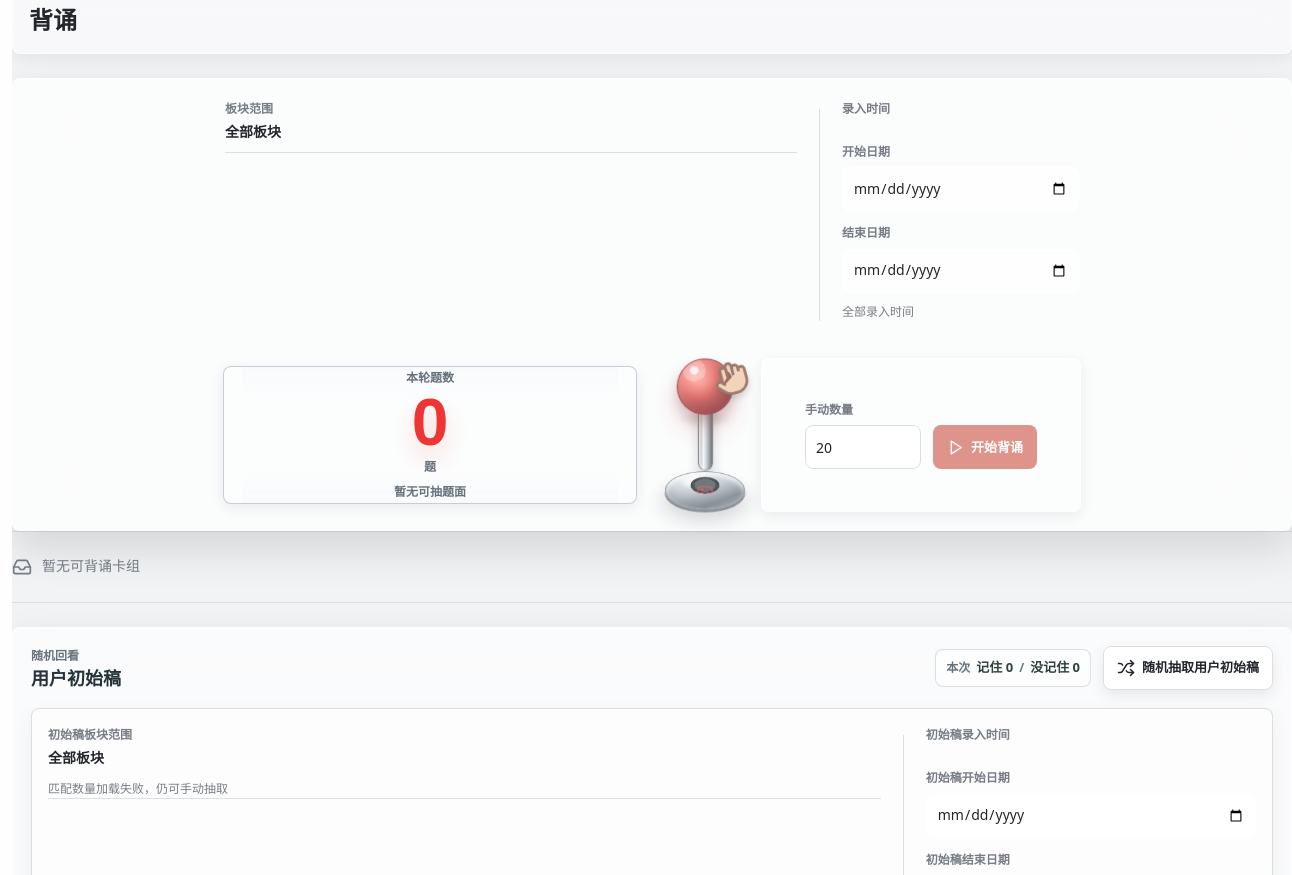
Scenario: 背诵页随机查看用户初始稿 › 匹配数量加载失败不阻止手动抽取，非法日期不发送计数请求
Expected: the text "暂无可背诵卡组" is shown, x1=42 y1=555 x2=140 y2=578
Expected: the text "匹配数量加载失败，仍可手动抽取" is shown, x1=48 y1=780 x2=228 y2=797
Step 1. Click the button "随机抽取用户初始稿" → (1188, 668), box x1=1103 y1=646 x2=1273 y2=690
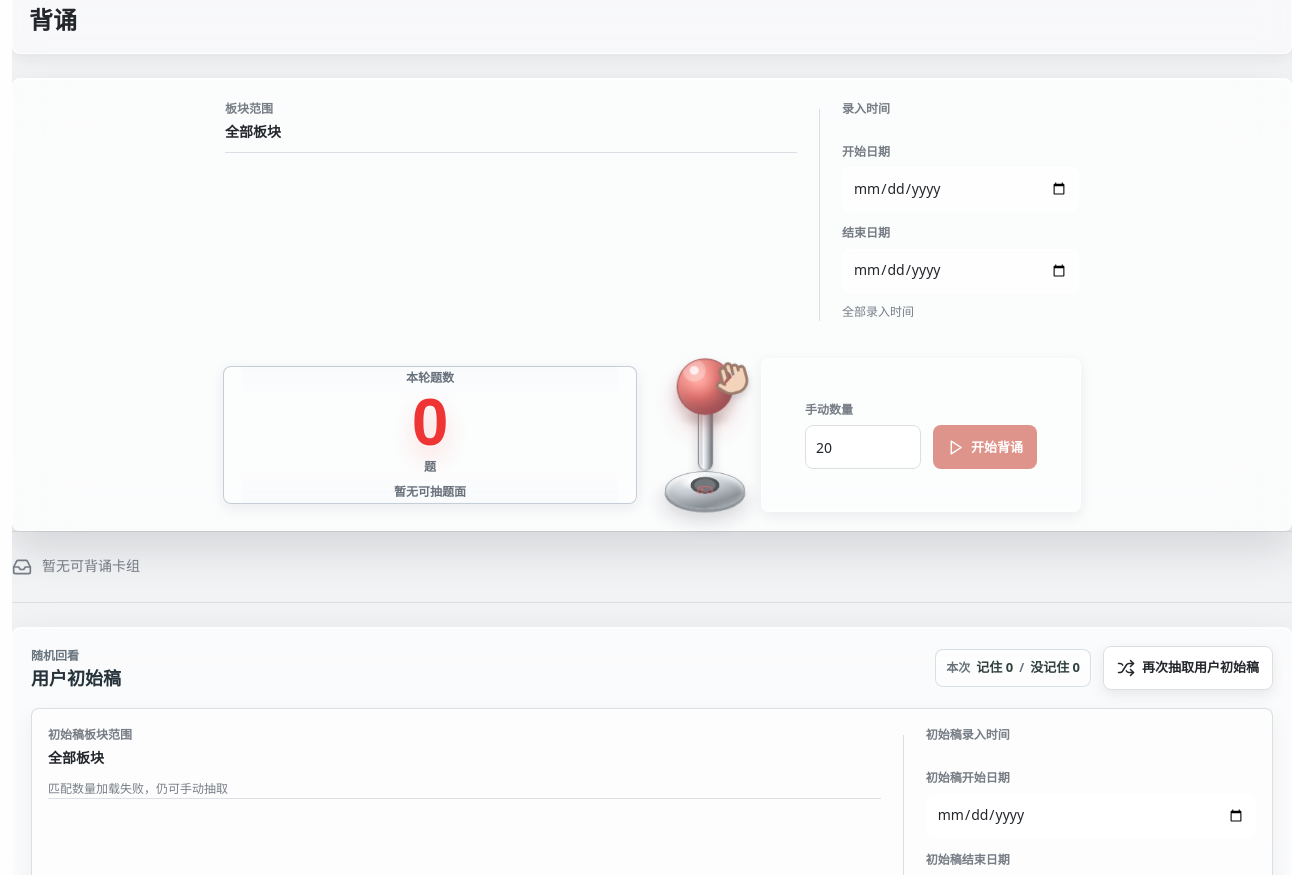
Step 2. Type "2026-07-20" into the date field named "初始稿范围开始日期" → (1091, 816), box x1=926 y1=794 x2=1256 y2=838
(page scrolled)
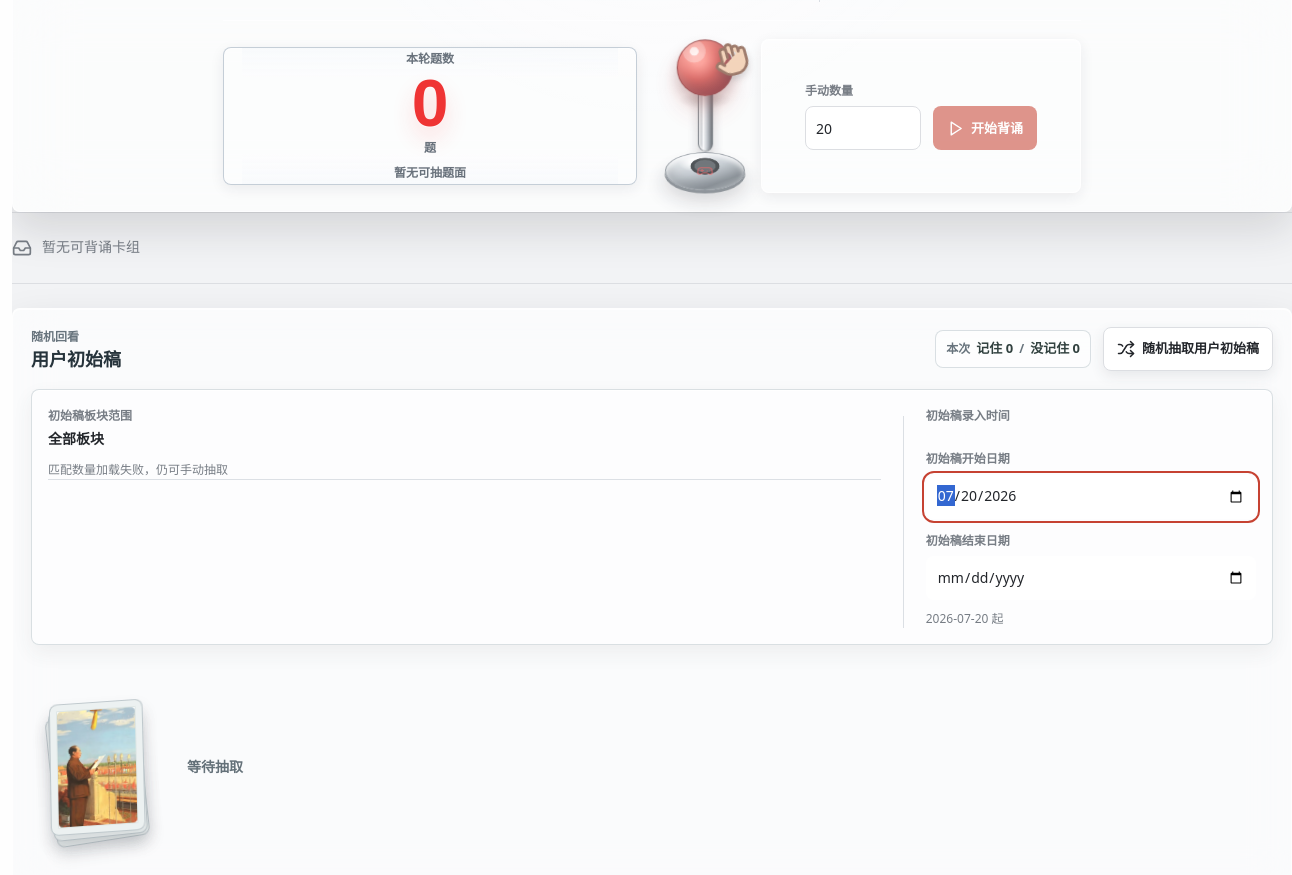
Step 3. Type "2026-07-01" into the date field named "初始稿范围结束日期" → (1091, 578), box x1=926 y1=556 x2=1256 y2=600
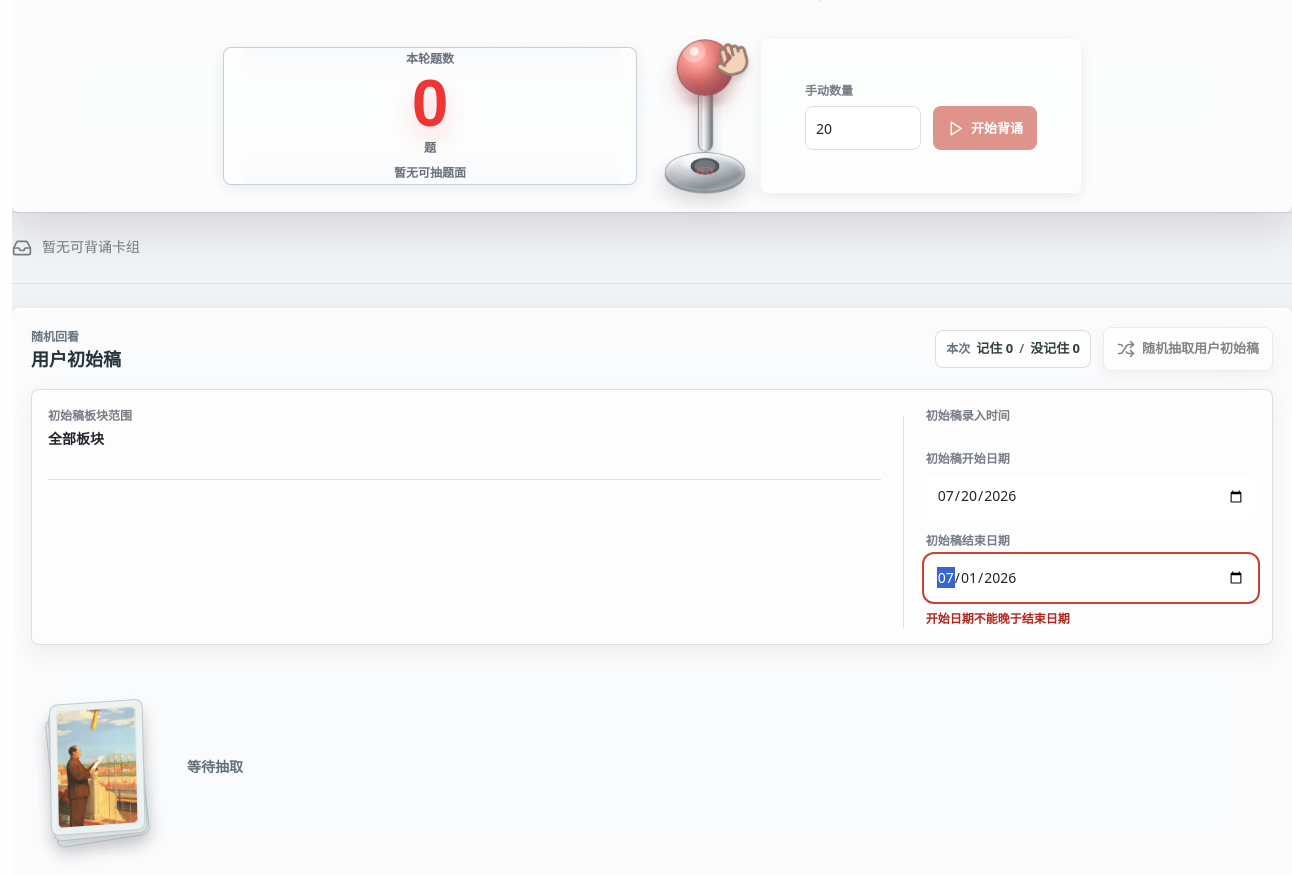
Expected: the message "开始日期不能晚于结束日期" is shown, x1=926 y1=610 x2=1070 y2=627
